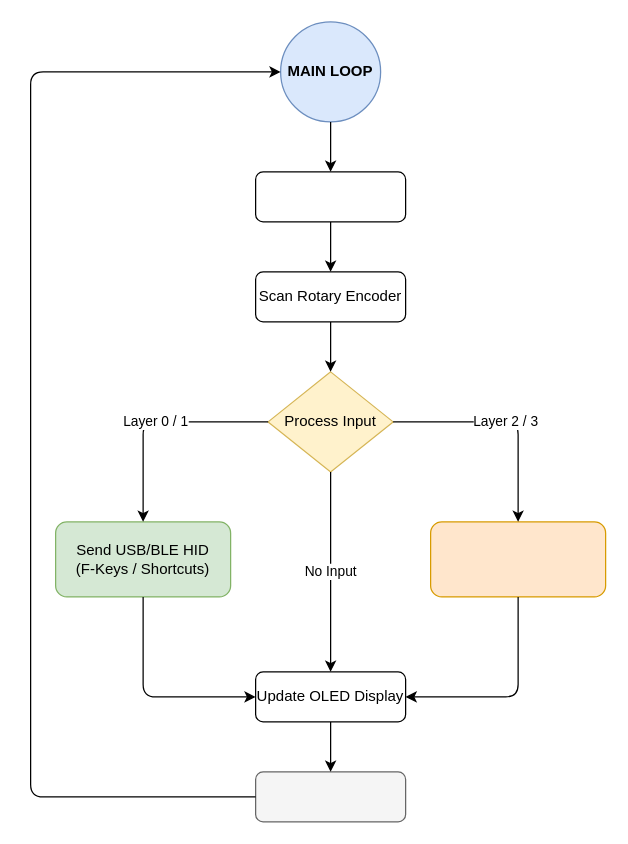
The diagram is 628 pixels wide and 844 high, and some of its shapes have lost their labels. Each missing label, with the centre of its shape:
"Debounce / Sleep" goes at point (330, 796).
"Scan 3x4 Key Matrix" goes at point (330, 196).
"Send Serial String (e.g., L2:C1R2)" goes at point (517, 559).
